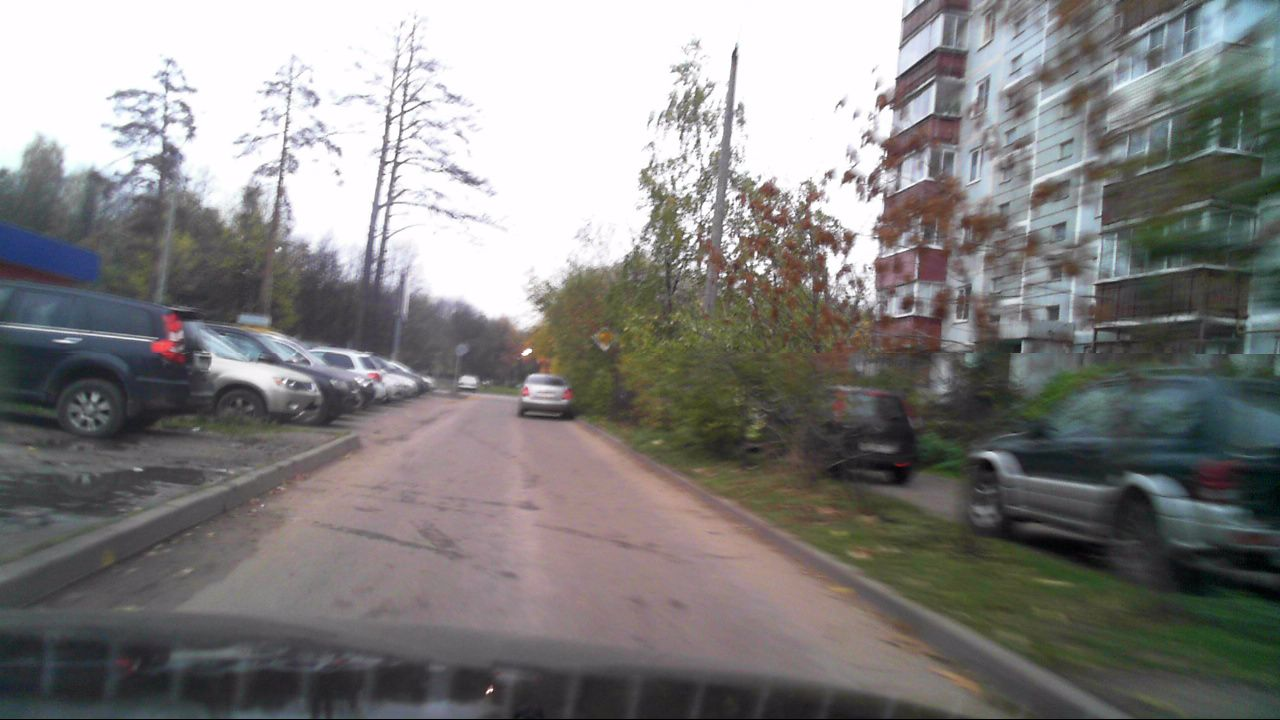main road: (591, 325, 618, 350)
